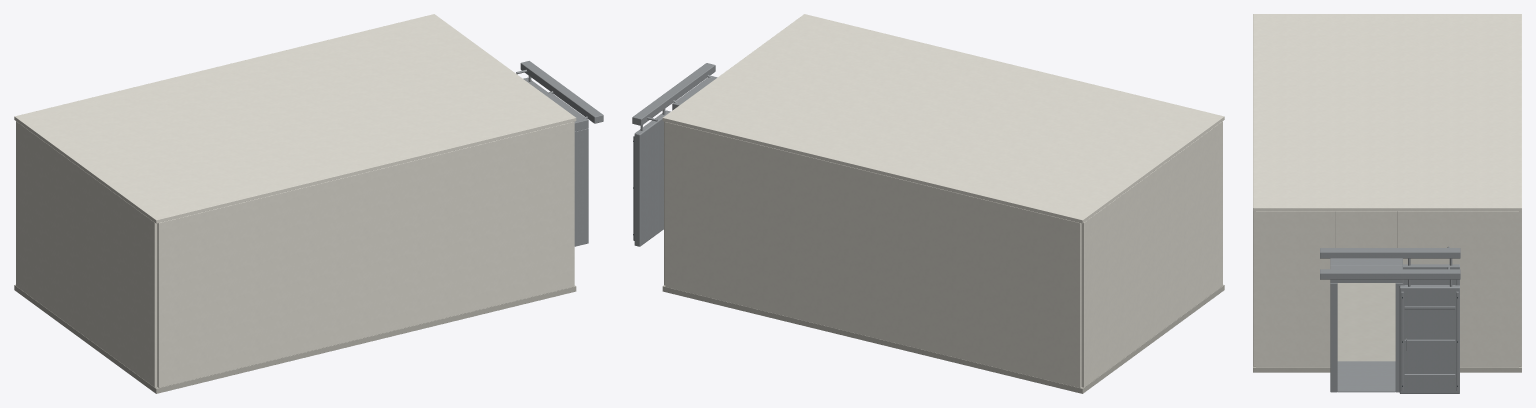
The model's file is room.glb.
The picture shows the model from 3 angles, left to right: view 1: azimuth 30°, elevation 25°; view 2: azimuth 150°, elevation 25°; view 3: azimuth 270°, elevation 25°; orthographic projection. The views are drawn at different scales.
Parts seen in each view (by area): view 1: Interior.LongWall.001, Interior.ManagementCeiling, Interior.WestWall, Interior.ManagementFloor, Interior.SecurityOuterFrame.Management_steel, Interior.SecurityOuterTrack.Management_steel; view 2: Interior.LongWall, Interior.ManagementCeiling, Interior.WestWall, Interior.SecurityOuterDoorLeaf.Management_steel, Interior.ManagementFloor, Interior.SecurityOuterTrack.Management_steel; view 3: Interior.ManagementCeiling, Interior.EastShell.Management_plaster, Interior.SecurityOuterDoorLeaf.Management_steel, Interior.ManagementFloor, Interior.SecurityOuterFrame.Management_steel, Interior.SecurityOuterTrack.Management_steel, Interior.SecurityTrack.Management_steel, Interior.SecurityVestibule.Management_steel, Interior.SecurityDoorLeaf.Management_steel, Interior.SecurityFrame.Management_steel, Interior.LongWall, Interior.LongWall.001.
Part boxes in pixels (left/top/right/bottom): Interior.LongWall.001: left=157, top=122, right=573, bottom=387; Interior.ManagementCeiling: left=14, top=14, right=576, bottom=223; Interior.WestWall: left=16, top=121, right=157, bottom=387; Interior.ManagementFloor: left=14, top=284, right=576, bottom=393; Interior.SecurityOuterFrame.Management_steel: left=543, top=92, right=588, bottom=246; Interior.SecurityOuterTrack.Management_steel: left=516, top=61, right=603, bottom=123; Interior.LongWall: left=665, top=122, right=1081, bottom=387; Interior.ManagementCeiling: left=662, top=14, right=1224, bottom=223; Interior.WestWall: left=1081, top=121, right=1222, bottom=387; Interior.SecurityOuterDoorLeaf.Management_steel: left=633, top=110, right=670, bottom=246; Interior.ManagementFloor: left=662, top=284, right=1224, bottom=393; Interior.SecurityOuterTrack.Management_steel: left=632, top=63, right=715, bottom=130; Interior.ManagementCeiling: left=1253, top=14, right=1521, bottom=211; Interior.EastShell.Management_plaster: left=1256, top=211, right=1518, bottom=367; Interior.SecurityOuterDoorLeaf.Management_steel: left=1399, top=285, right=1459, bottom=393; Interior.ManagementFloor: left=1253, top=283, right=1521, bottom=372; Interior.SecurityOuterFrame.Management_steel: left=1330, top=266, right=1402, bottom=392; Interior.SecurityOuterTrack.Management_steel: left=1320, top=267, right=1460, bottom=286; Interior.SecurityTrack.Management_steel: left=1320, top=246, right=1460, bottom=265; Interior.SecurityVestibule.Management_steel: left=1330, top=258, right=1402, bottom=382; Interior.SecurityDoorLeaf.Management_steel: left=1403, top=264, right=1459, bottom=285; Interior.SecurityFrame.Management_steel: left=1337, top=361, right=1395, bottom=370; Interior.LongWall: left=1519, top=211, right=1521, bottom=366; Interior.LongWall.001: left=1253, top=211, right=1255, bottom=366.
Bounding box in the file's own units: 11.67 × 4 × 5.92.
22 materials, 12 textured.
